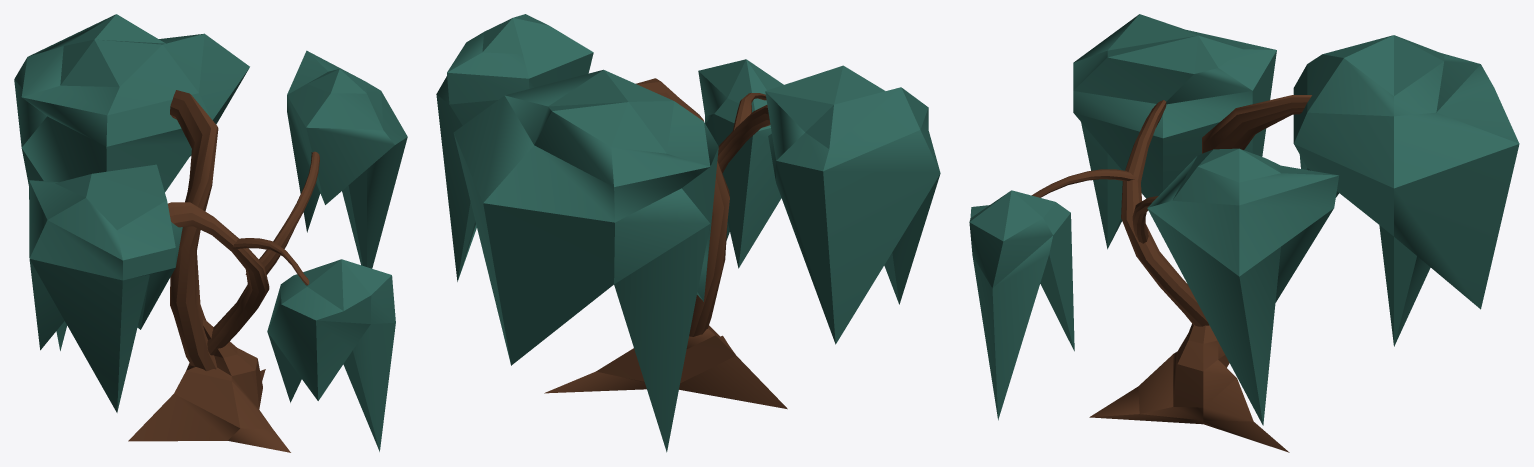
File: Trees_4.fbx
3 views of the same model, side by side, from view 1: azimuth 30°, elevation 25°; view 2: azimuth 150°, elevation 25°; view 3: azimuth 270°, elevation 25° (orthographic). The views are drawn at different scales.
Visible parts, largest first — view 1: pSphere20, pSphere3, pSphere2, pSphere13, pSphere5, pCylinder8, pCylinder9, pCylinder7, pCylinder18; view 2: pSphere20, pSphere3, pSphere2, pSphere13, pSphere5, pCylinder8, pCylinder9; view 3: pSphere20, pSphere2, pSphere3, pSphere13, pSphere5, pCylinder9, pCylinder8, pCylinder18, pCylinder7.
Part boxes in pixels (box(x1,y1,x2,y2)): pSphere20: box(14, 14, 249, 350); pSphere3: box(29, 164, 182, 412); pSphere2: box(287, 50, 407, 268); pSphere13: box(267, 259, 395, 451); pSphere5: box(128, 319, 290, 452); pCylinder8: box(170, 90, 218, 371); pCylinder9: box(168, 202, 269, 355); pCylinder7: box(245, 151, 319, 274); pCylinder18: box(232, 238, 309, 285); pSphere20: box(453, 69, 718, 452); pSphere3: box(765, 65, 940, 344); pSphere2: box(436, 14, 593, 281); pSphere13: box(698, 59, 783, 268); pSphere5: box(544, 325, 787, 409); pCylinder8: box(636, 78, 729, 336); pCylinder9: box(717, 105, 770, 173); pSphere20: box(1293, 35, 1519, 346); pSphere2: box(1147, 148, 1339, 425); pSphere3: box(1073, 14, 1276, 249); pSphere13: box(969, 190, 1074, 420); pSphere5: box(1089, 324, 1289, 452); pCylinder9: box(1121, 100, 1208, 326); pCylinder8: box(1202, 95, 1311, 153); pCylinder18: box(1031, 169, 1136, 197); pCylinder7: box(1132, 196, 1158, 243).
Size of the model in its own units: 0.1498 by 0.1133 by 0.1589.
